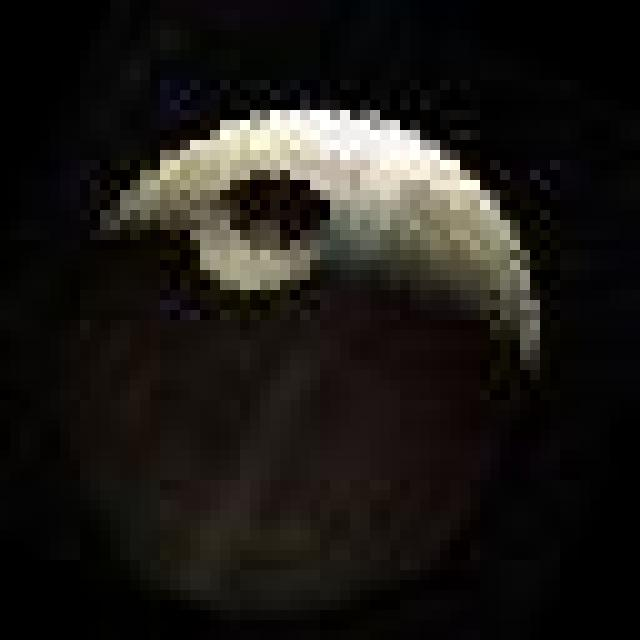Death Star: (45, 107, 573, 610)
